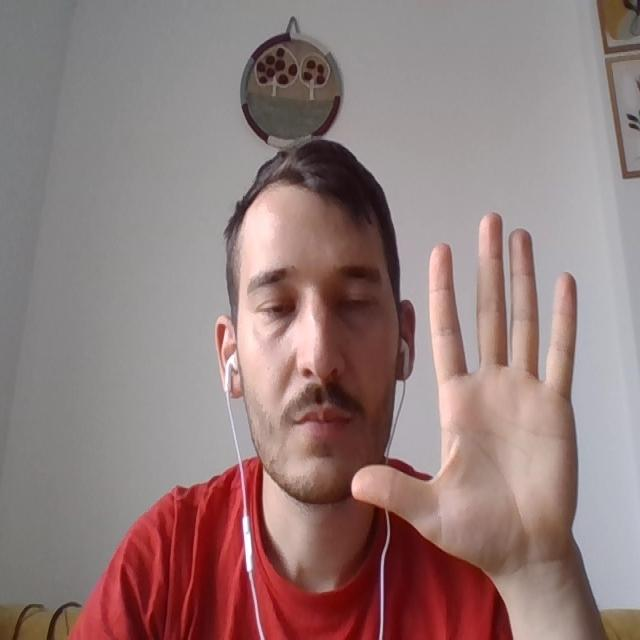hello: (372, 236, 592, 577)
